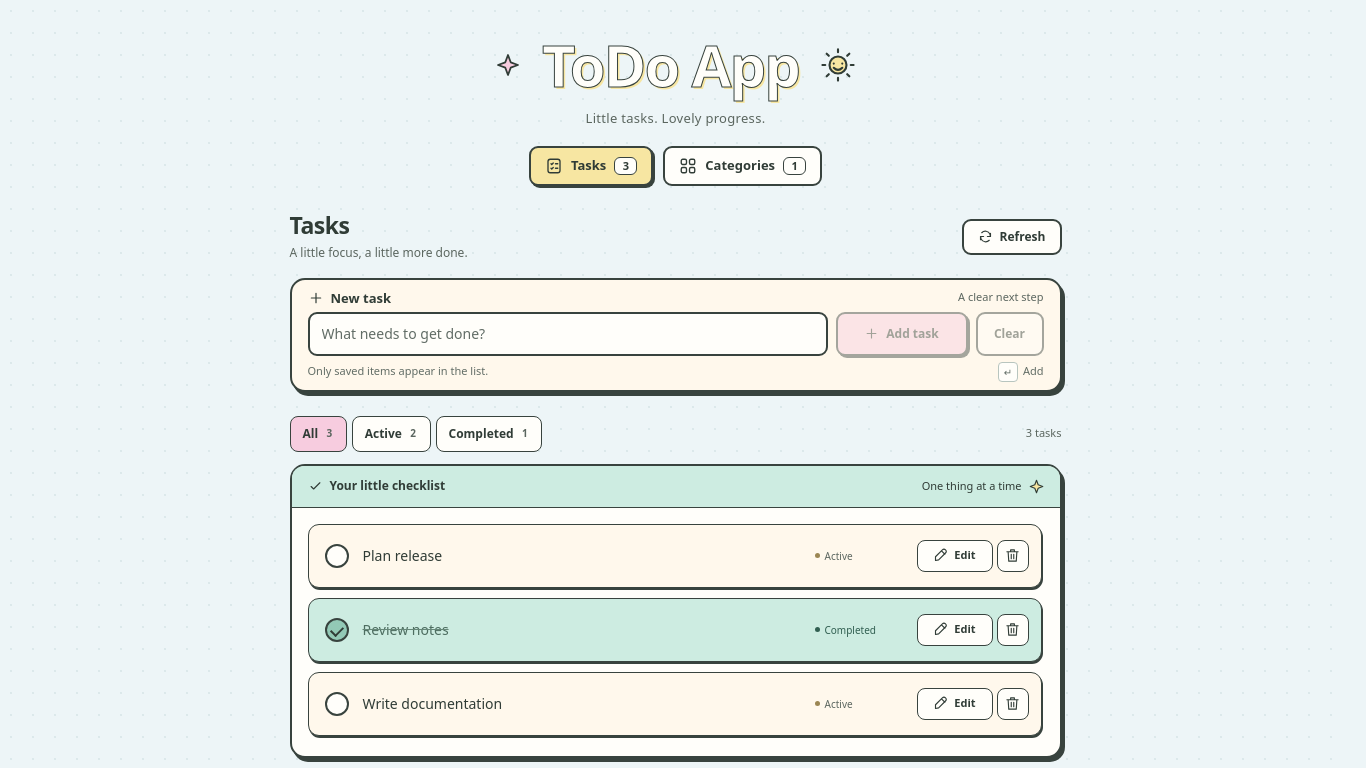
Test case: stable client order with unordered UUID task responses › deleting row 0 preserves survivor order and restores nearby focus without scrolling
Expected: the text "Plan release" is shown, [362, 546, 442, 565]
Click the button named "Delete task" at [1012, 556], box [996, 540, 1028, 572]
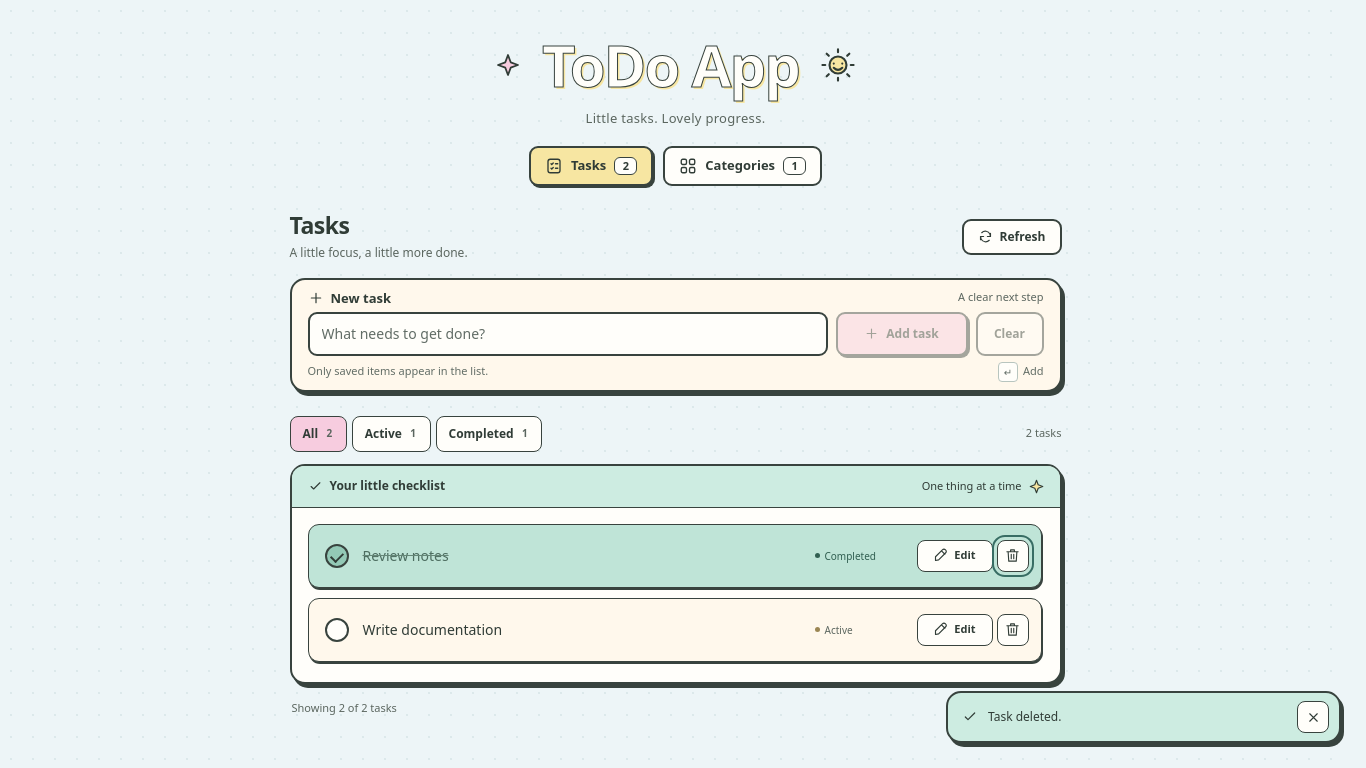
Expected: the text "Task deleted." is shown, [988, 708, 1061, 725]
Expected: the number of list items is 2, [308, 524, 1042, 588]; [308, 598, 1042, 662]
Expected: the list item "Plan release Active Edit" is gone
